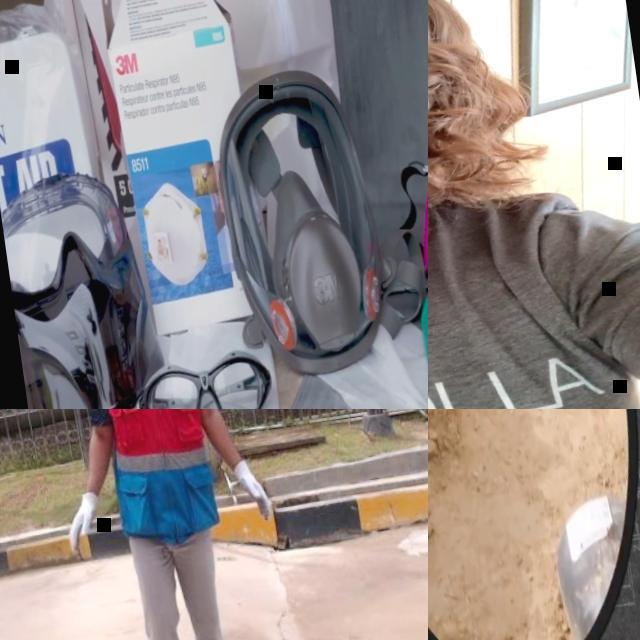vest: (84, 409, 217, 483)
